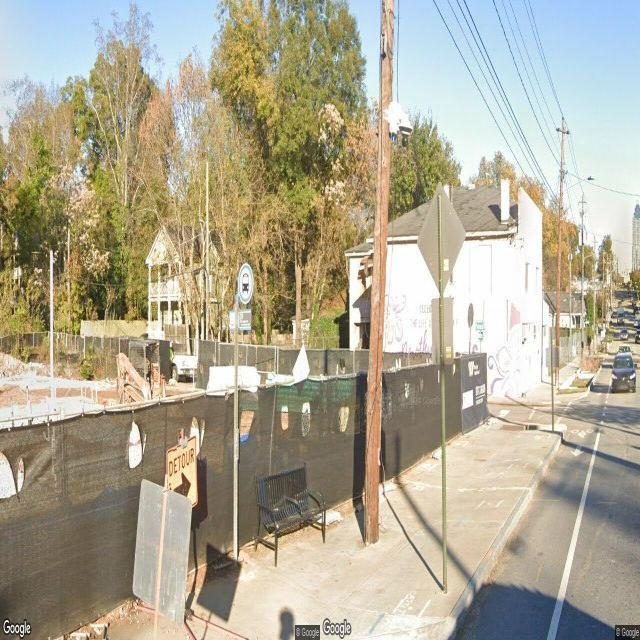seating: (252, 462, 326, 566)
